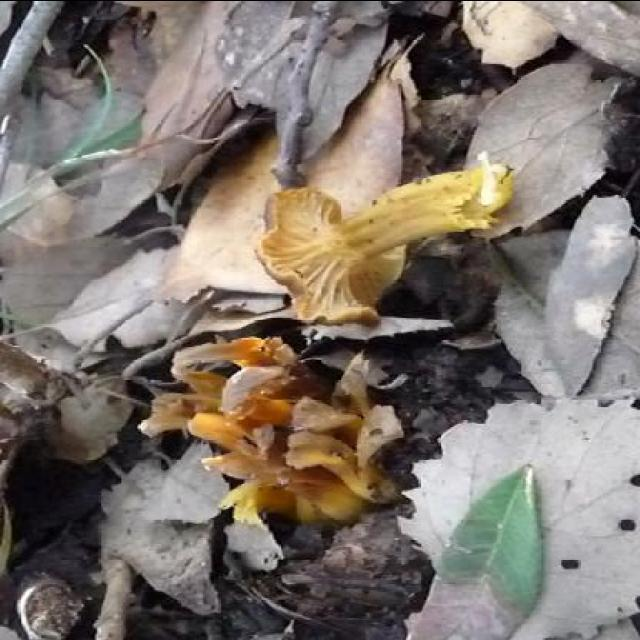Mushroom: (252, 157, 510, 340), (194, 388, 366, 530), (139, 330, 330, 444), (266, 427, 408, 522)
